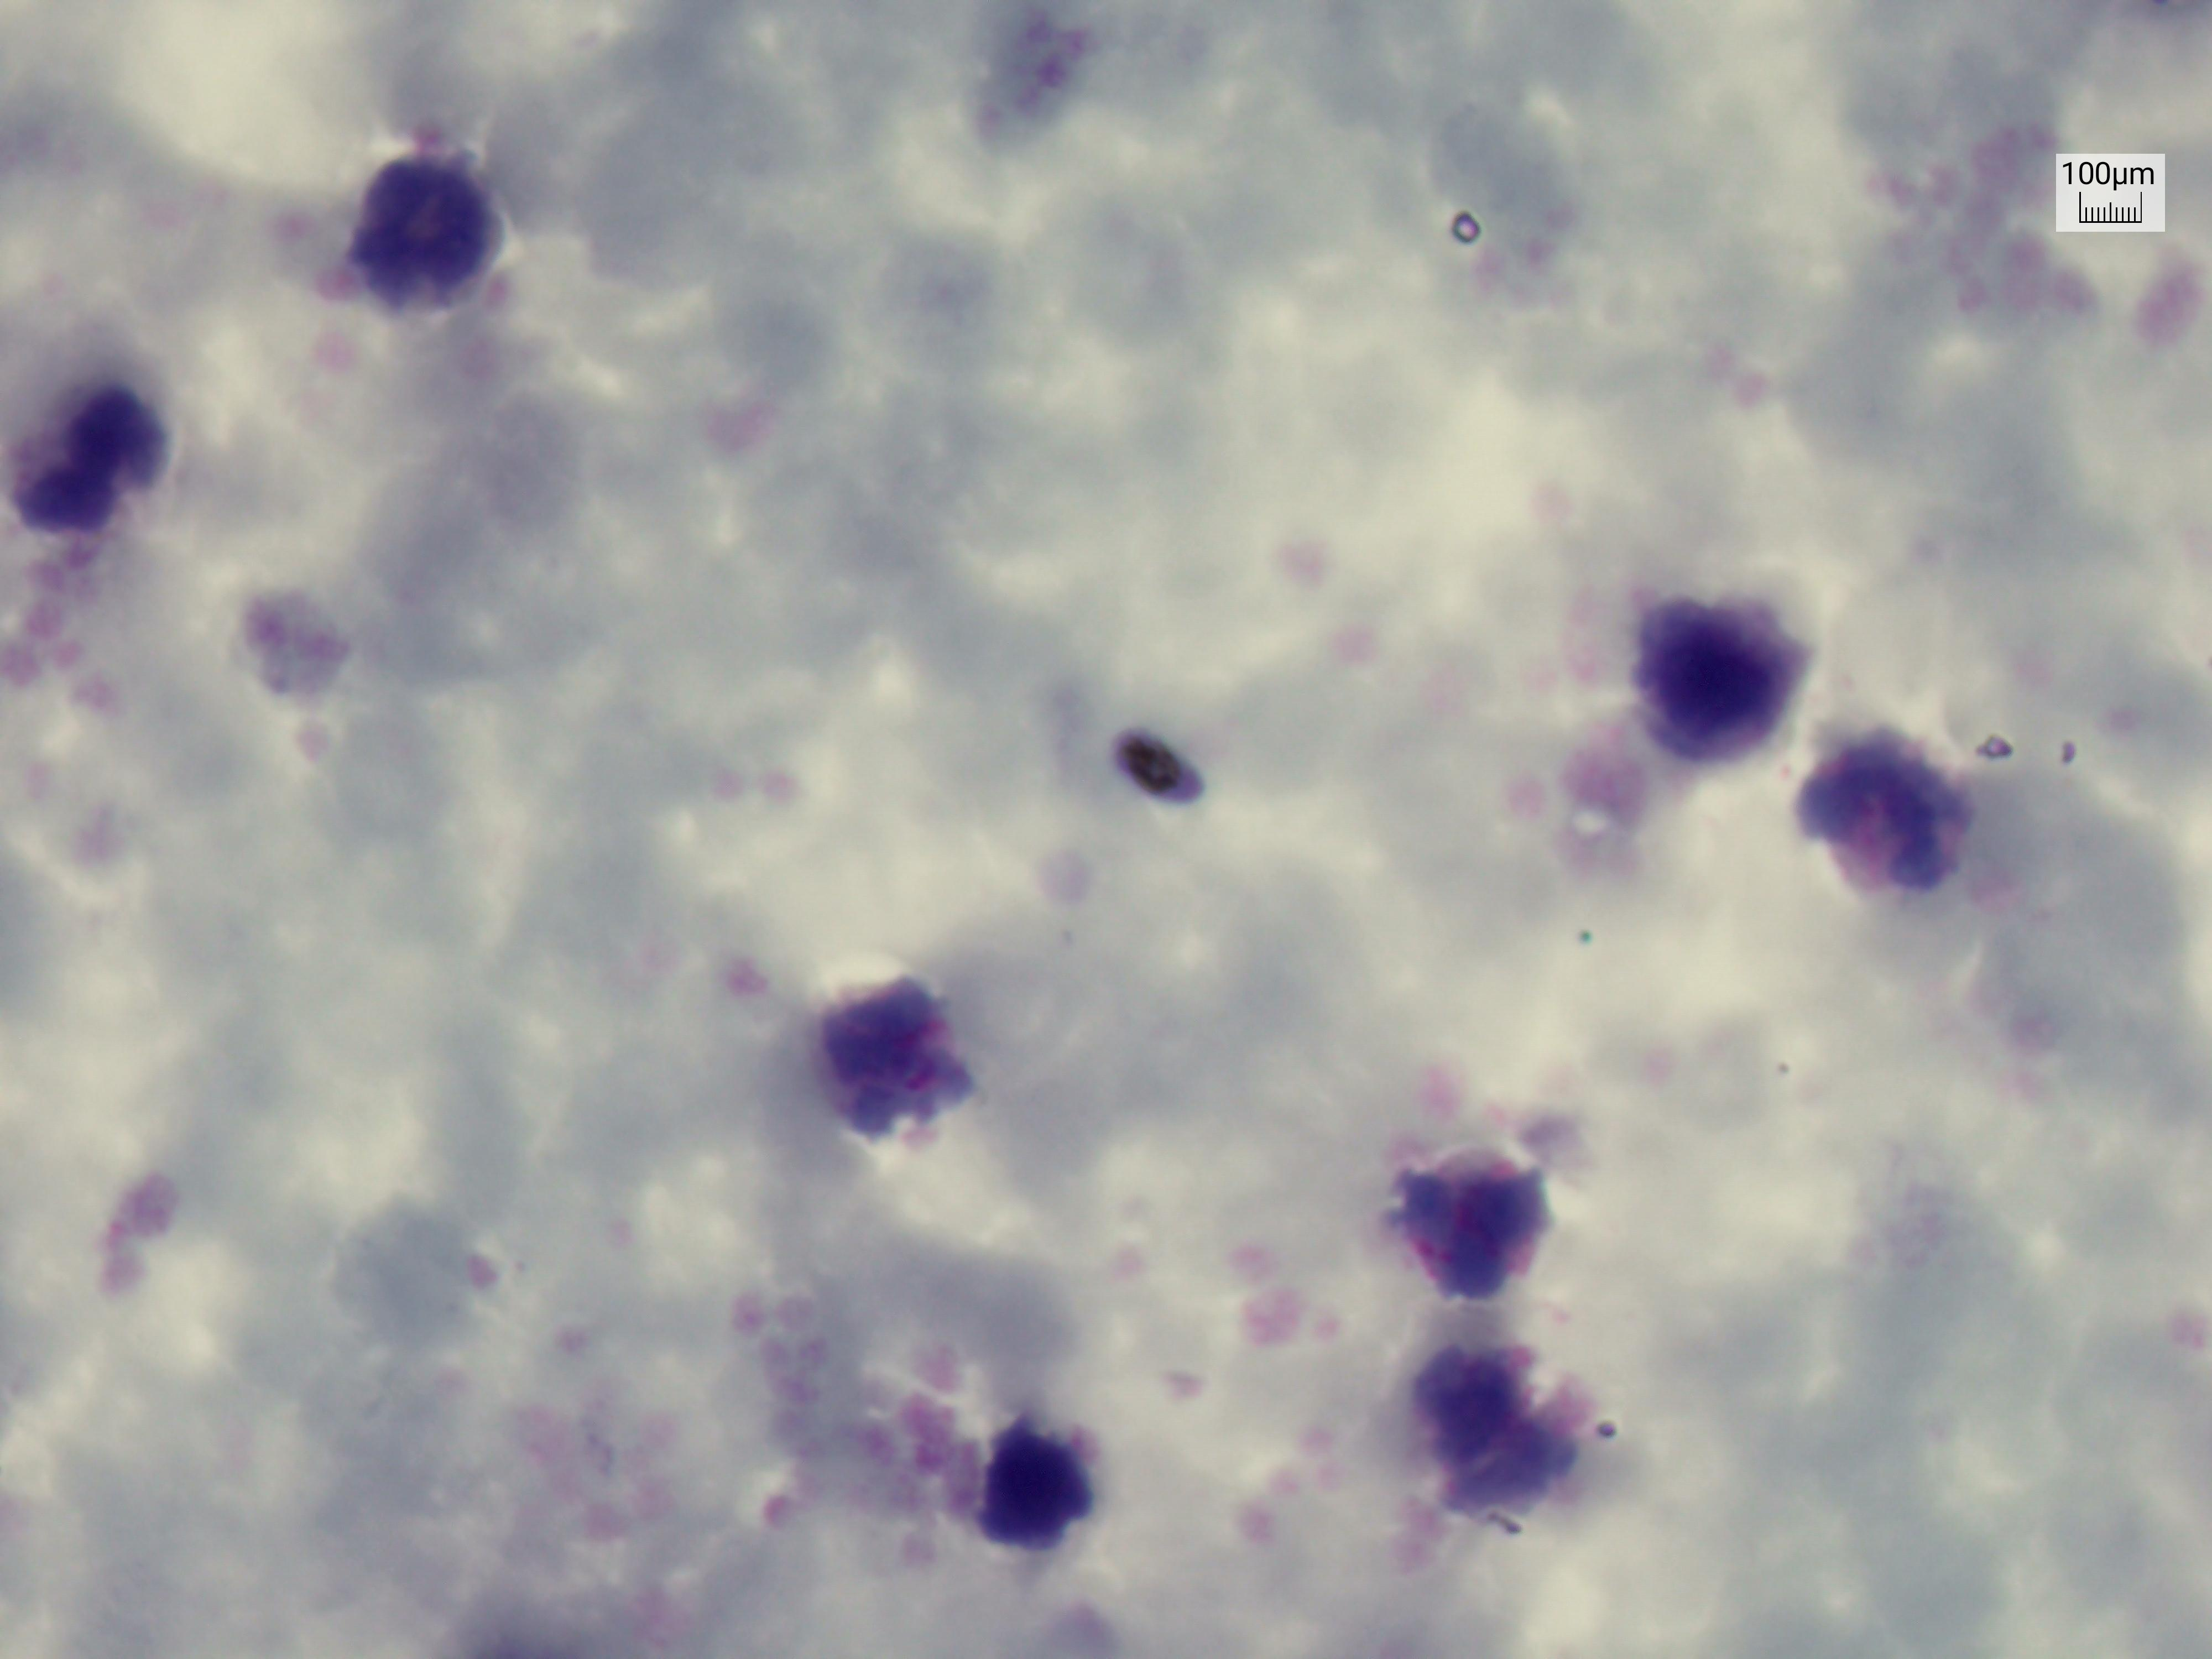p.falciparum: (1087, 687, 1235, 817), (1421, 188, 1507, 288)
